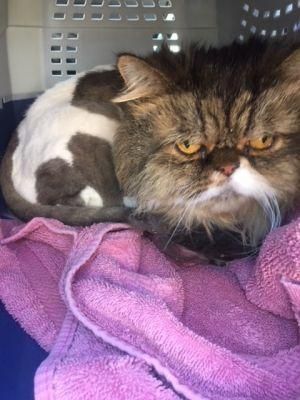persian: (112, 32, 300, 241)
